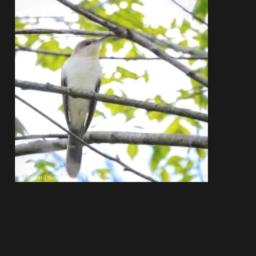Cuckoo: (62, 37, 109, 178)
